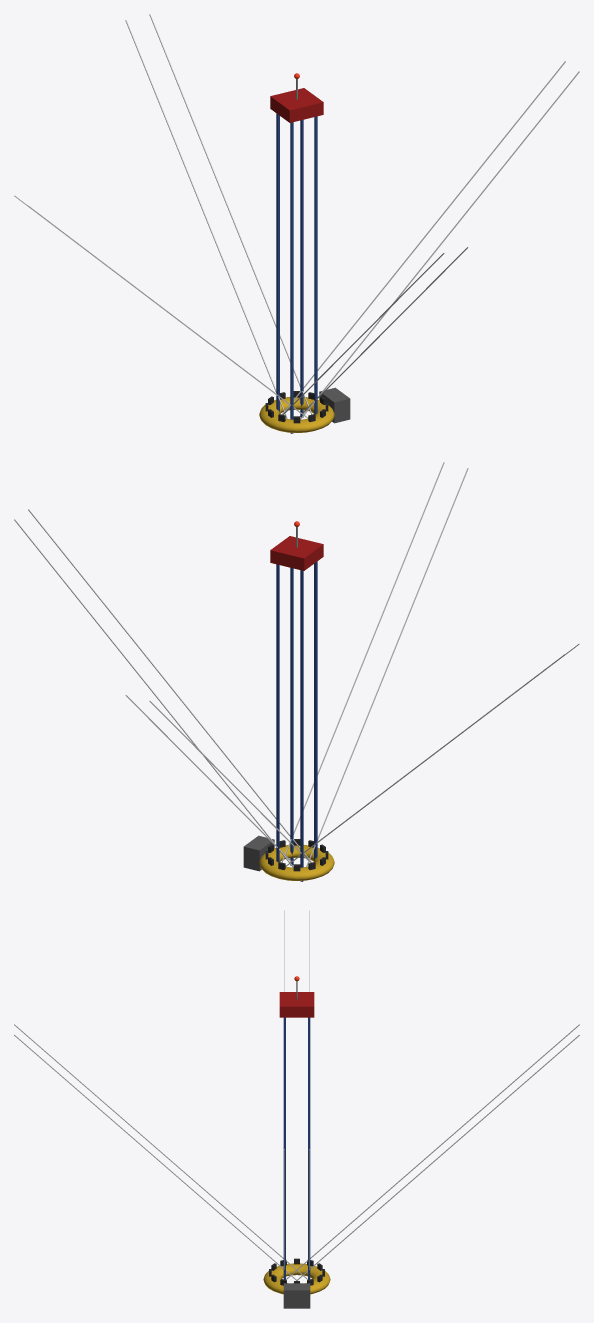
The model's file is torre_queda.glb.
3 views of the same model, one above another, from view 1: azimuth 30°, elevation 25°; view 2: azimuth 150°, elevation 25°; view 3: azimuth 270°, elevation 25° (orthographic). The views are drawn at different scales.
Visible parts, largest first — view 1: obj_489; view 2: obj_489; view 3: obj_489.
Part boxes in pixels (bbox=[...]): obj_489: bbox=[14, 14, 579, 433]; obj_489: bbox=[14, 462, 579, 881]; obj_489: bbox=[14, 910, 579, 1308].
Bounding box in the file's own units: 55.26 × 33.65 × 55.26.
Materials: 1 (1 with a texture image).
